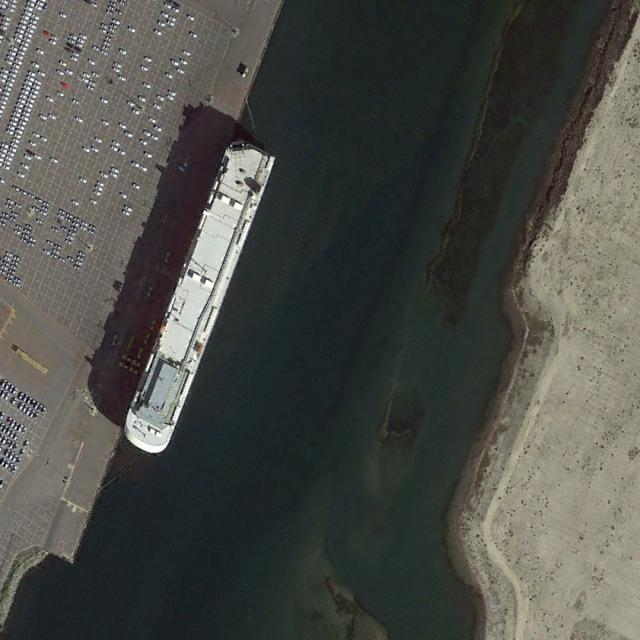RoRo: (119, 134, 276, 460)
